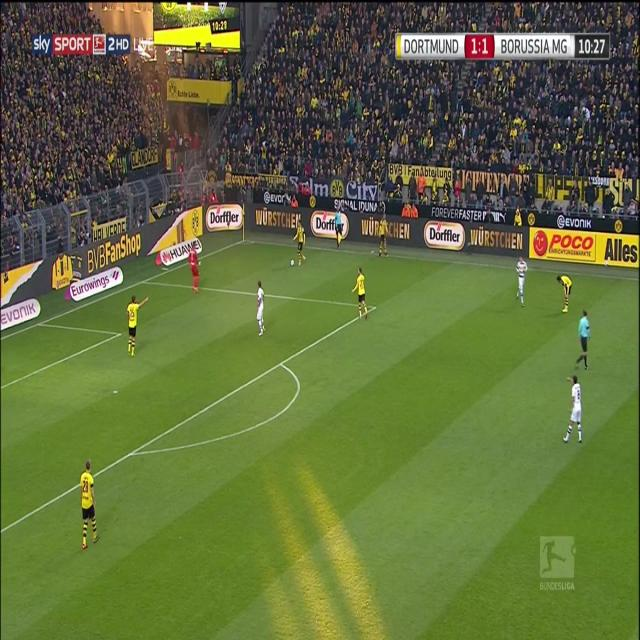Ball: (288, 257, 296, 268)
Goalkeeper: (188, 245, 202, 296)
Player: (78, 459, 100, 553), (125, 293, 150, 364), (561, 370, 583, 447), (350, 266, 370, 322), (514, 253, 529, 310), (555, 272, 573, 316), (255, 278, 267, 340), (293, 222, 307, 268), (378, 213, 391, 260)
Referee: (576, 311, 593, 373), (334, 207, 342, 252)
